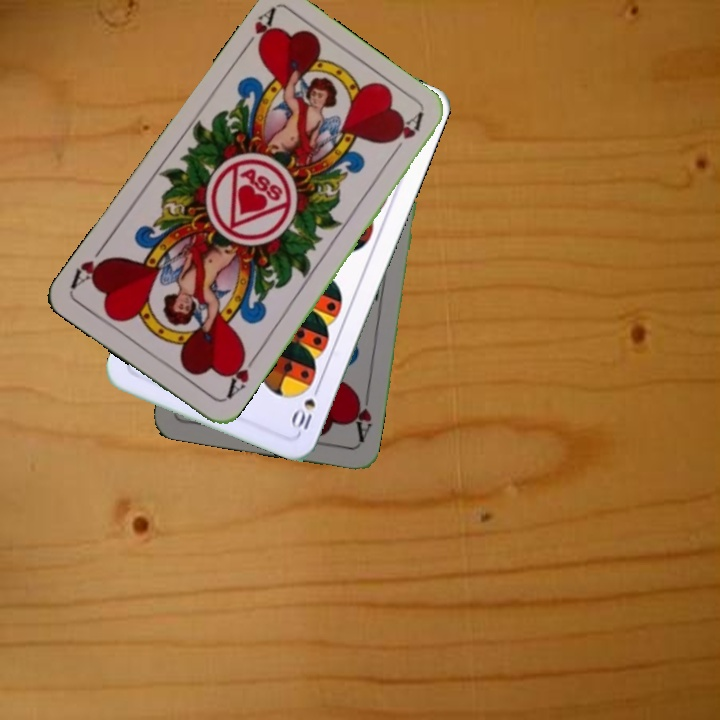HA: (220, 347, 260, 403), (237, 5, 279, 57), (348, 386, 374, 446)
S10: (288, 379, 324, 433)
